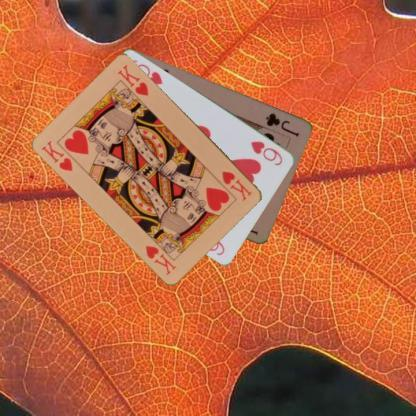6h: (249, 138, 284, 167)
Jc: (263, 110, 301, 138)
Kh: (220, 168, 254, 203), (40, 138, 75, 172)
